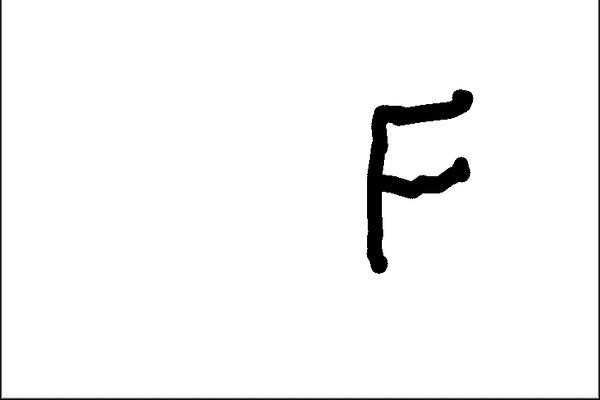F: (360, 86, 475, 275)
